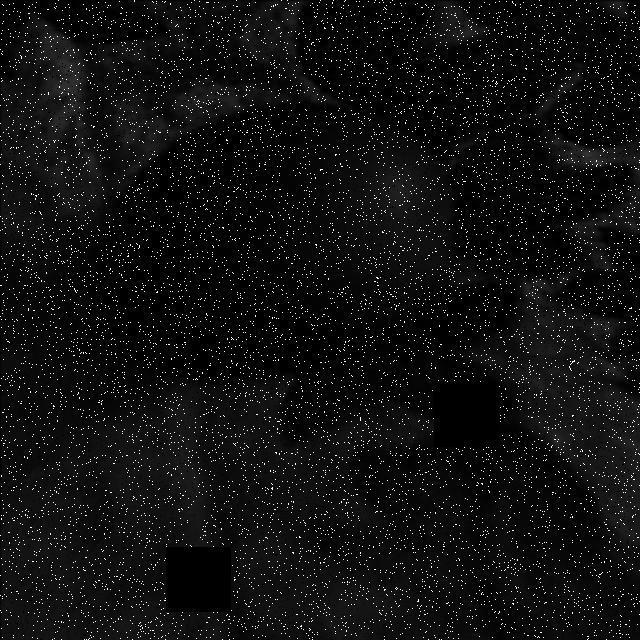egg: (90, 98, 472, 388)
